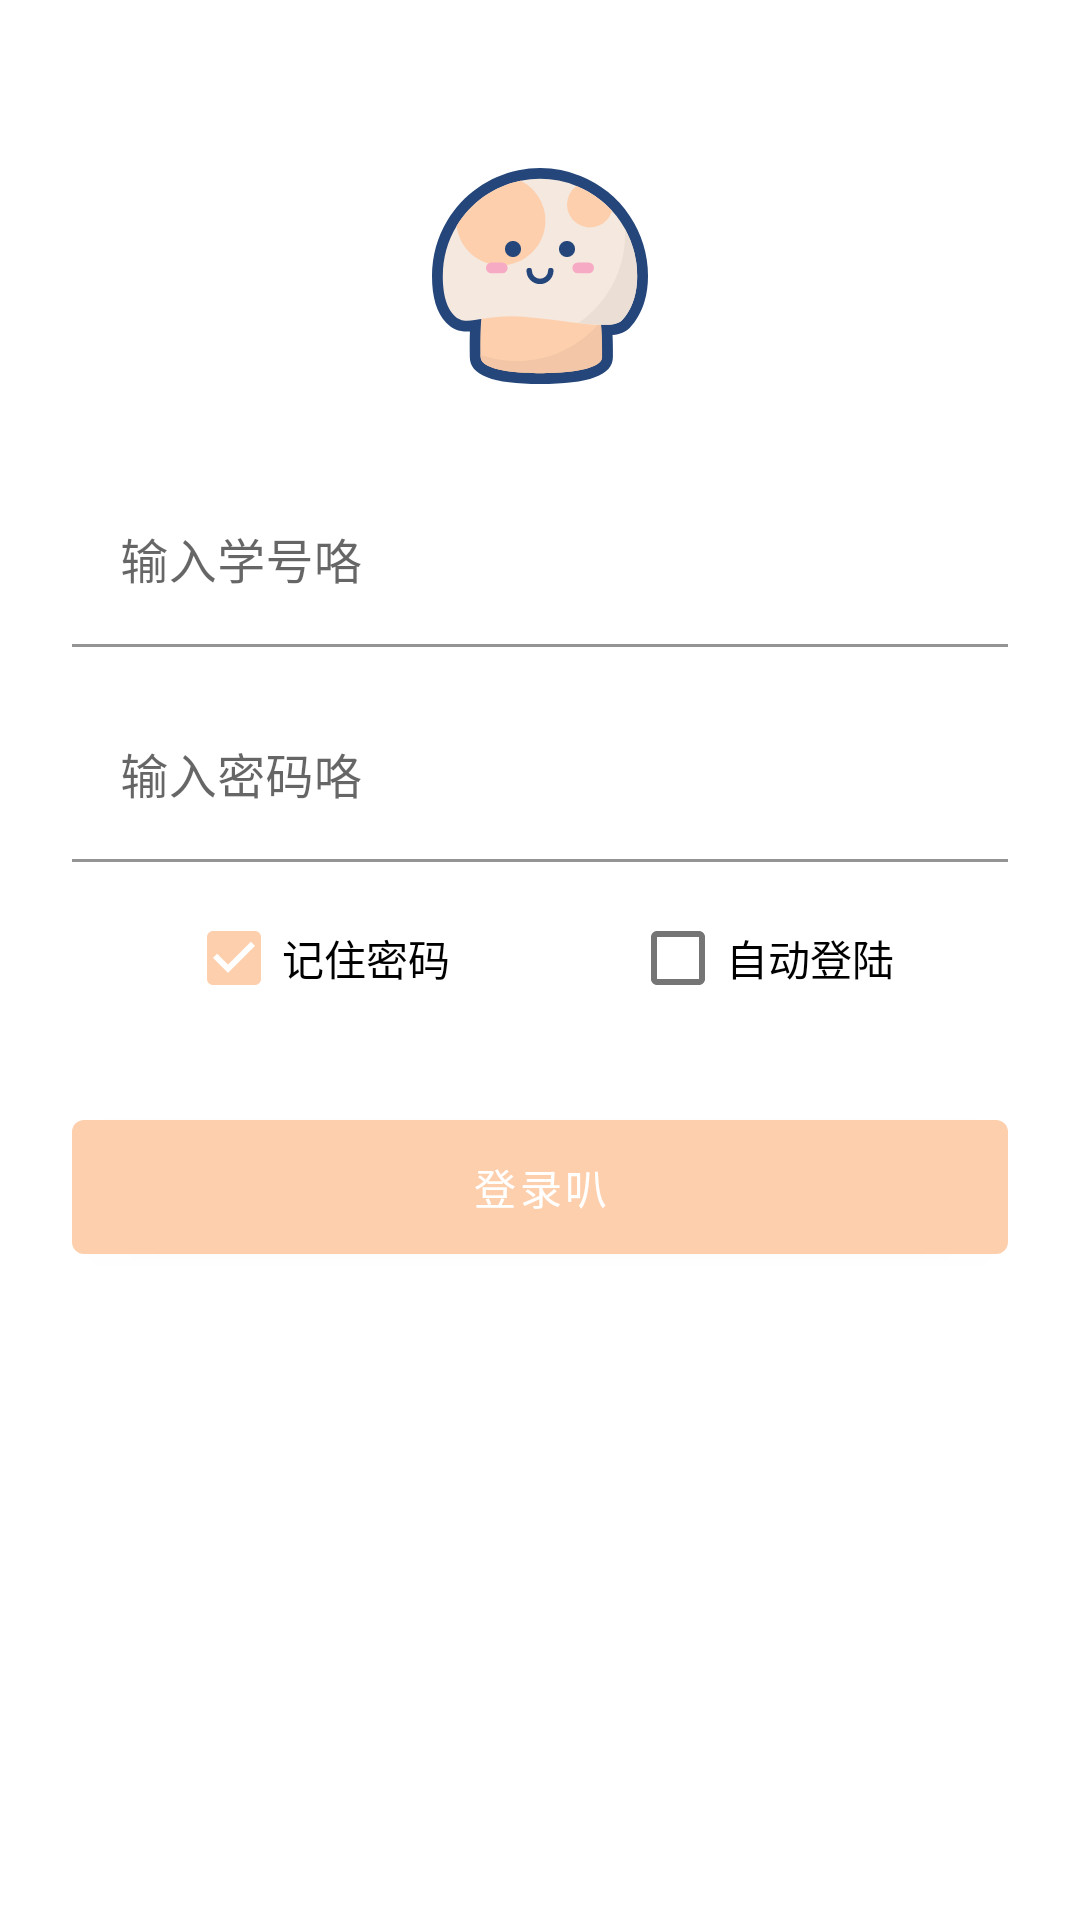

Where icons sit on this 1080w x 1920h app screen, as {"left": x1, "top": y1, "right": x2, "bottom": y2}:
mushroom: {"left": 432, "top": 168, "right": 648, "bottom": 384}
